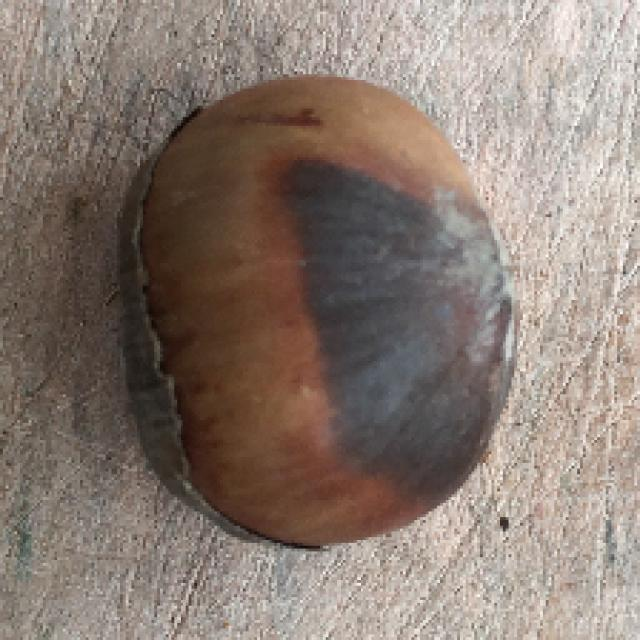DamagedHazelnut: (114, 76, 522, 554)
